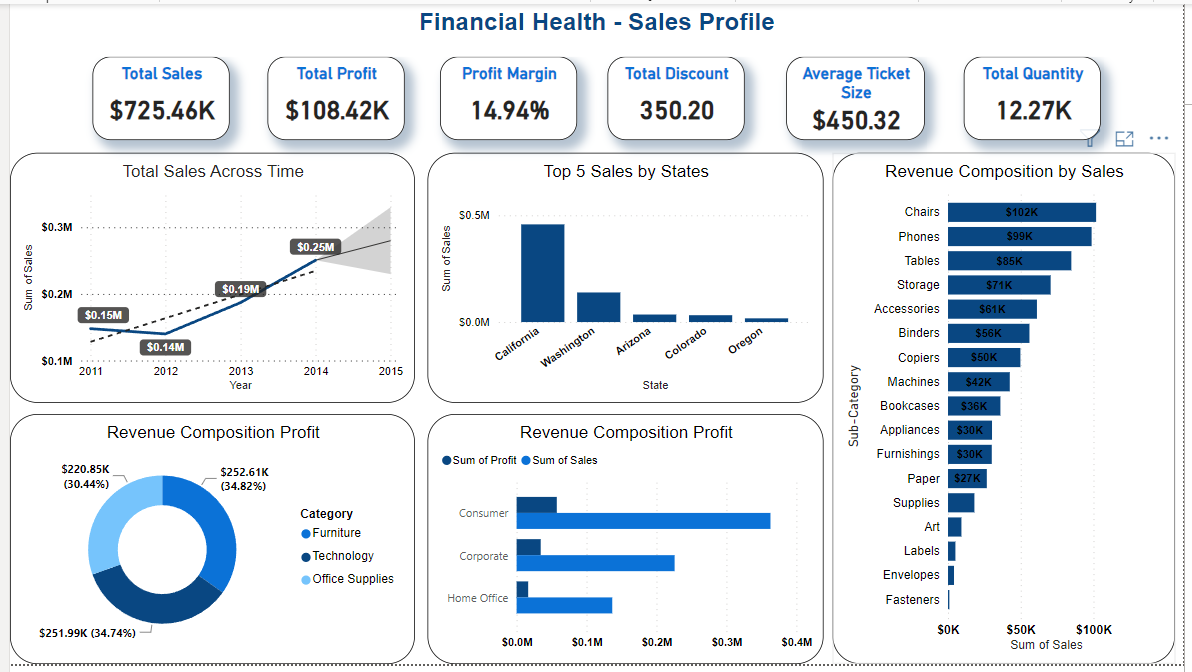

Layout of this report page (visuals, bound fields, positions):
{"tool":"powerbi","page":{"name":"Financial_Health_2","canvas":[1280,720],"ordinal":1},"visuals":[{"type":"lineChart","title":"Total Sales Across Time","fields":{"Category":["Walmart.Order Date.Variation.Date Hierarchy.Year"],"Y":["Sum(Walmart.Sales)"]},"box":[0,161.9,441.9,273.1],"z":0},{"type":"donutChart","title":"Revenue Composition  Profit","fields":{"Category":["Walmart.Category"],"Y":["Sum(Walmart.Sales)"]},"box":[0,447.2,441.8,272.7],"z":1000},{"type":"columnChart","title":"Top 5 Sales by States","fields":{"Category":["Walmart.State"],"Y":["Sum(Walmart.Sales)"]},"box":[455.6,161.9,432.2,273.1],"z":2000},{"type":"clusteredBarChart","title":"Revenue Composition  Profit","fields":{"Category":["Walmart.Segment"],"Y":["Sum(Walmart.Profit)","Sum(Walmart.Sales)"]},"box":[455.4,447.2,432.2,272.7],"z":3000},{"type":"clusteredBarChart","title":"Revenue Composition  by Sales","fields":{"Category":["Walmart.Sub-Category"],"Y":["Sum(Walmart.Sales)"]},"box":[897.1,162.3,373.6,557.6],"z":4000},{"type":"card","title":"Total Sales","fields":{"Values":["Sum(Walmart.Sales)"]},"box":[90,57.3,150,91.4],"z":5000},{"type":"card","title":"Total Profit","fields":{"Values":["Sum(Walmart.Profit)"]},"box":[280.9,57.3,150,91.4],"z":6000},{"type":"card","title":"Profit Margin","fields":{"Values":["Avg(WALMART_2.Percentage_Margin)"]},"box":[469,57.3,150,91.4],"z":7000},{"type":"card","title":"Total Discount","fields":{"Values":["WALMART_2.TotalDiscount"]},"box":[651.7,57.3,150,91.4],"z":8000},{"type":"card","title":"Average Ticket Size","fields":{"Values":["Avg(WALAMART_2.Total_Sales)"]},"box":[846.7,57.3,151.3,91.4],"z":9000},{"type":"card","title":"Total Quantity","fields":{"Values":["Sum(WALMART_2.Total_Quantity)"]},"box":[1040.3,57.3,150,91.4],"z":10000},{"type":"textbox","box":[0,0,1280.3,57.3],"z":11000}]}

Visuals, with their boxes in screenshot pixels (x1, y1, x2, y2), scaled from the page's 1280x720 canvas onto the 1192x672 screenshot:
"Total Sales Across Time" lineChart: {"left": 0, "top": 151, "right": 412, "bottom": 406}
"Revenue Composition  Profit" donutChart: {"left": 0, "top": 417, "right": 411, "bottom": 671}
"Top 5 Sales by States" columnChart: {"left": 424, "top": 151, "right": 827, "bottom": 406}
"Revenue Composition  Profit" clusteredBarChart: {"left": 424, "top": 417, "right": 827, "bottom": 671}
"Revenue Composition  by Sales" clusteredBarChart: {"left": 835, "top": 151, "right": 1183, "bottom": 671}
"Total Sales" card: {"left": 84, "top": 53, "right": 224, "bottom": 139}
"Total Profit" card: {"left": 262, "top": 53, "right": 401, "bottom": 139}
"Profit Margin" card: {"left": 437, "top": 53, "right": 576, "bottom": 139}
"Total Discount" card: {"left": 607, "top": 53, "right": 747, "bottom": 139}
"Average Ticket Size" card: {"left": 788, "top": 53, "right": 929, "bottom": 139}
"Total Quantity" card: {"left": 969, "top": 53, "right": 1108, "bottom": 139}
textbox: {"left": 0, "top": 0, "right": 1191, "bottom": 53}
